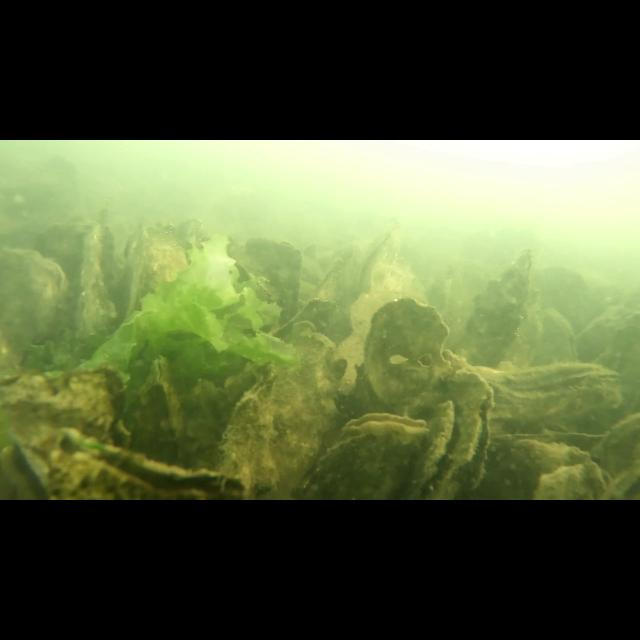Oyster-Closed: (217, 318, 347, 500), (470, 362, 622, 431), (362, 298, 450, 414), (457, 248, 533, 370), (0, 249, 68, 363), (499, 436, 607, 500), (138, 354, 188, 456), (248, 234, 302, 318), (141, 222, 191, 306)
Oyster-Open: (0, 365, 132, 499), (47, 428, 243, 500), (300, 412, 428, 500), (75, 217, 151, 355), (430, 370, 494, 500), (406, 400, 454, 500)
